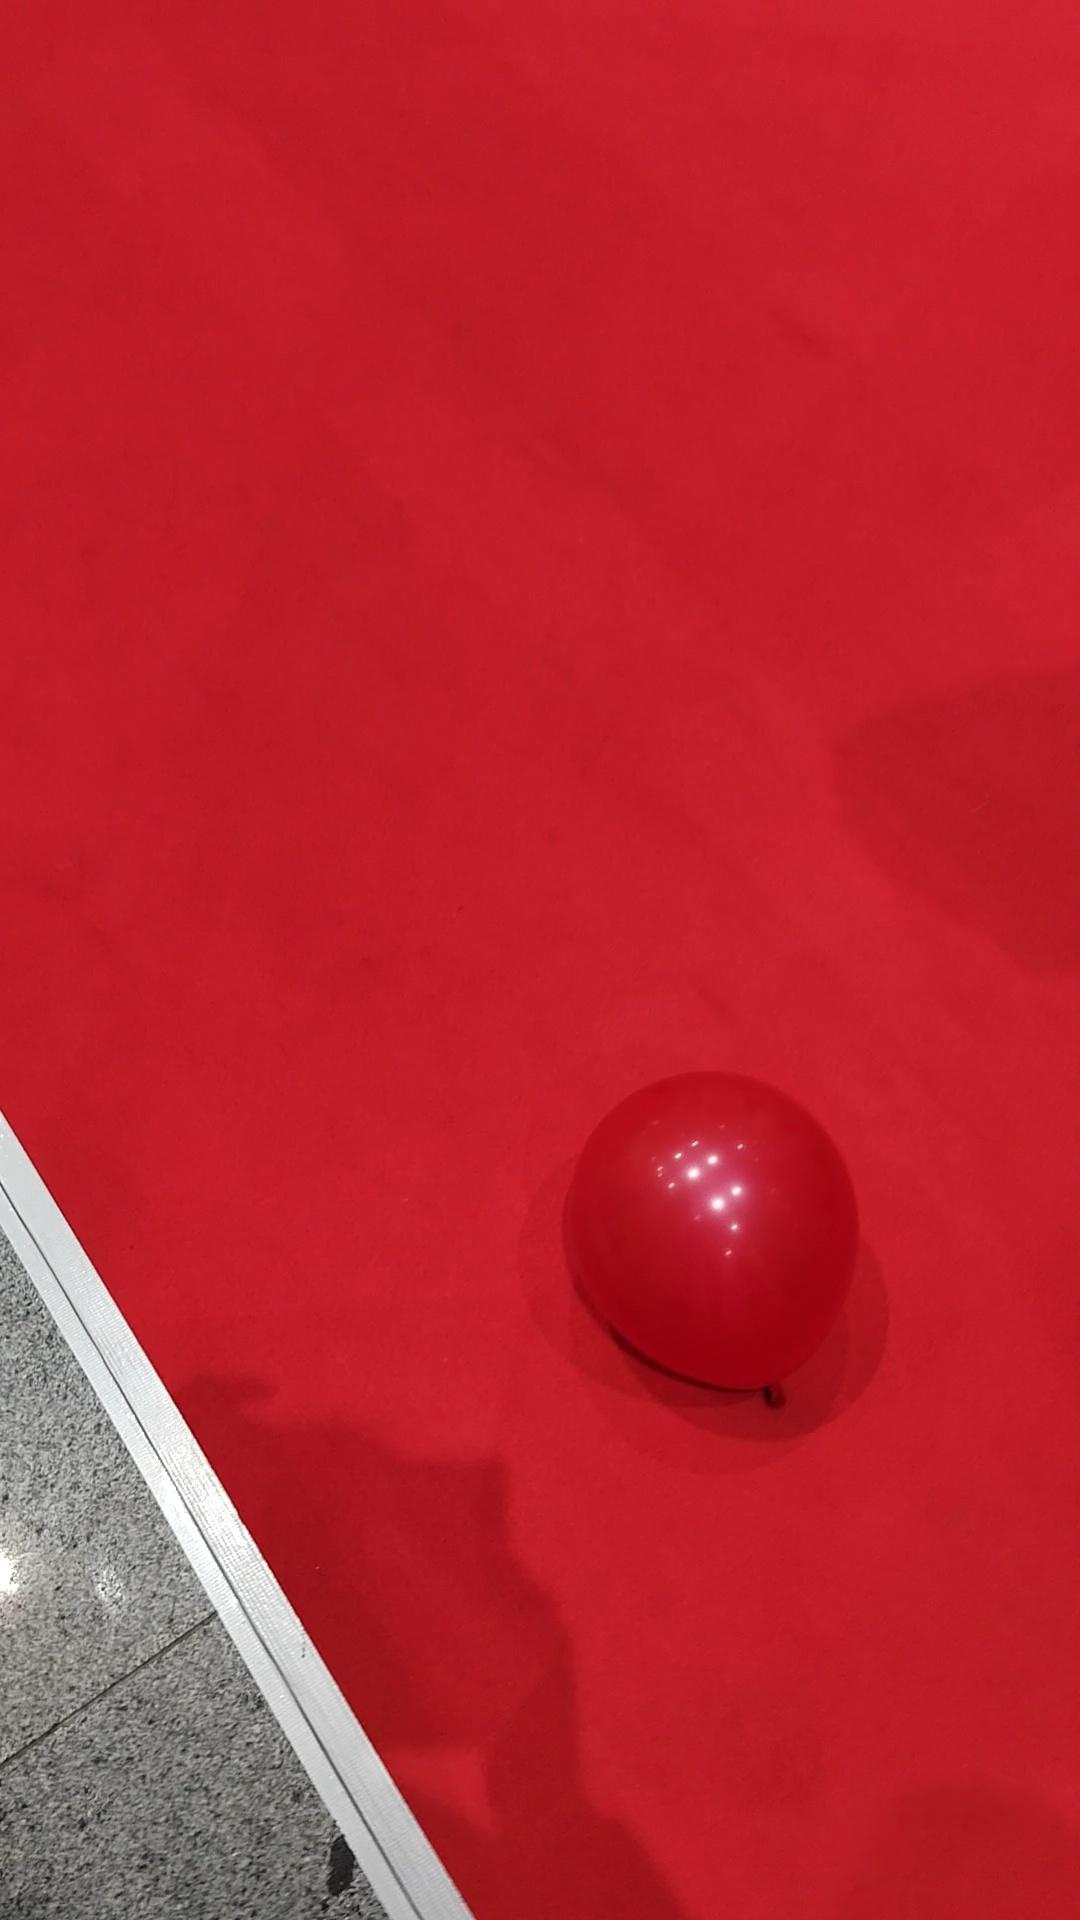red: (566, 1069, 860, 1398)
